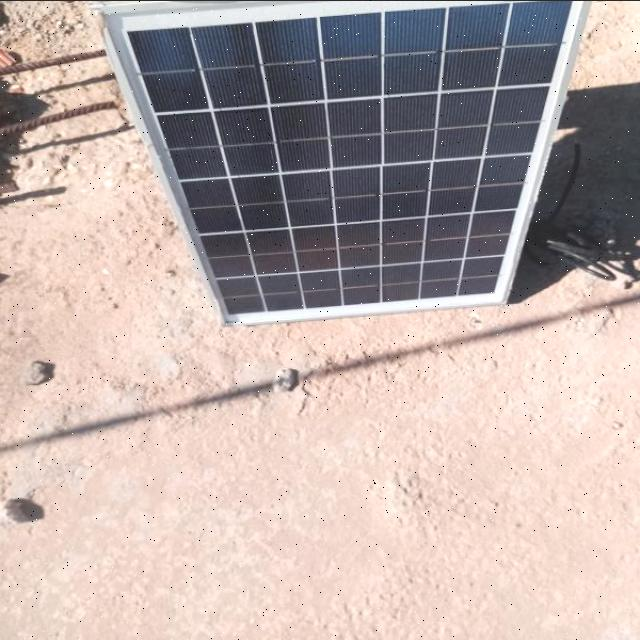Normal Solar Panel: (92, 0, 594, 325)
